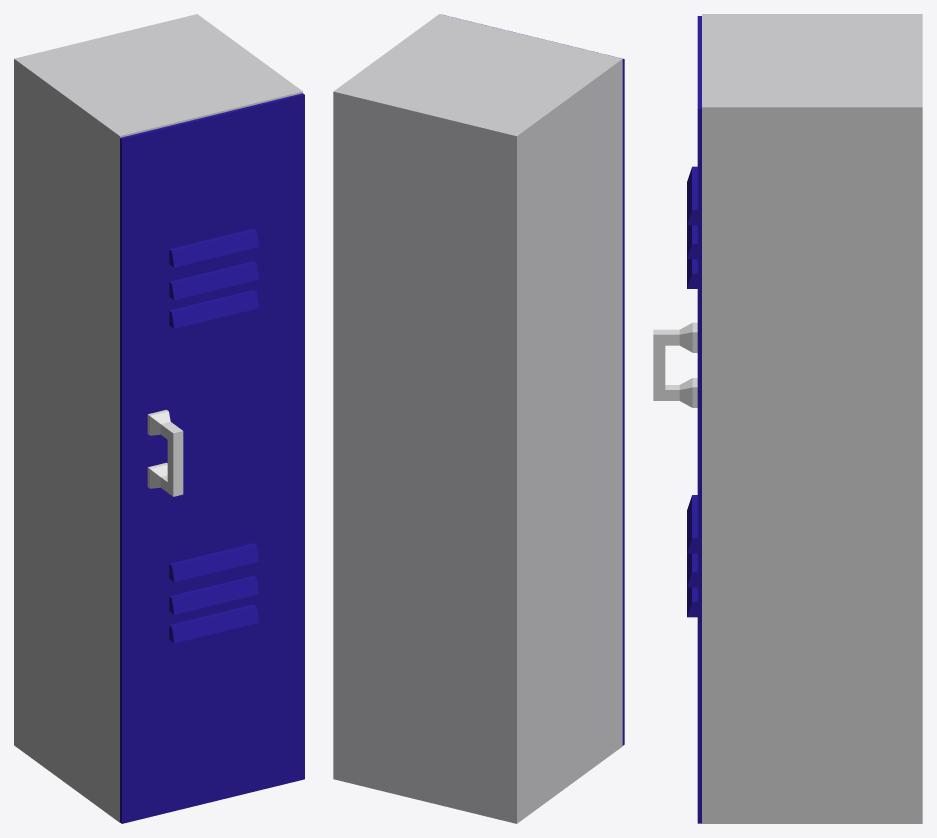
File: Scholl_locker.fbx
3 views of the same model, side by side, from view 1: azimuth 30°, elevation 25°; view 2: azimuth 150°, elevation 25°; view 3: azimuth 270°, elevation 25° (orthographic). The views are drawn at different scales.
Visible parts, largest first — view 1: Cube.087, Cube.077; view 2: Cube.077, Cube.087; view 3: Cube.077, Cube.087.
Part boxes in pixels (box(x1,y1,x2,y2)): Cube.087: box(120, 93, 304, 823); Cube.077: box(14, 14, 302, 822); Cube.077: box(333, 14, 622, 823); Cube.087: box(441, 14, 624, 745); Cube.077: box(702, 14, 922, 823); Cube.087: box(653, 16, 701, 823).
Bounding box in the file's own units: 697 × 2497 × 851.
